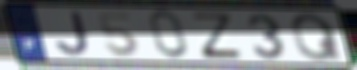0: (147, 9, 192, 62)
3: (246, 13, 287, 61)
5: (95, 11, 141, 57)
J: (53, 10, 92, 57)
Q: (289, 12, 345, 63)
Z: (190, 11, 246, 60)
